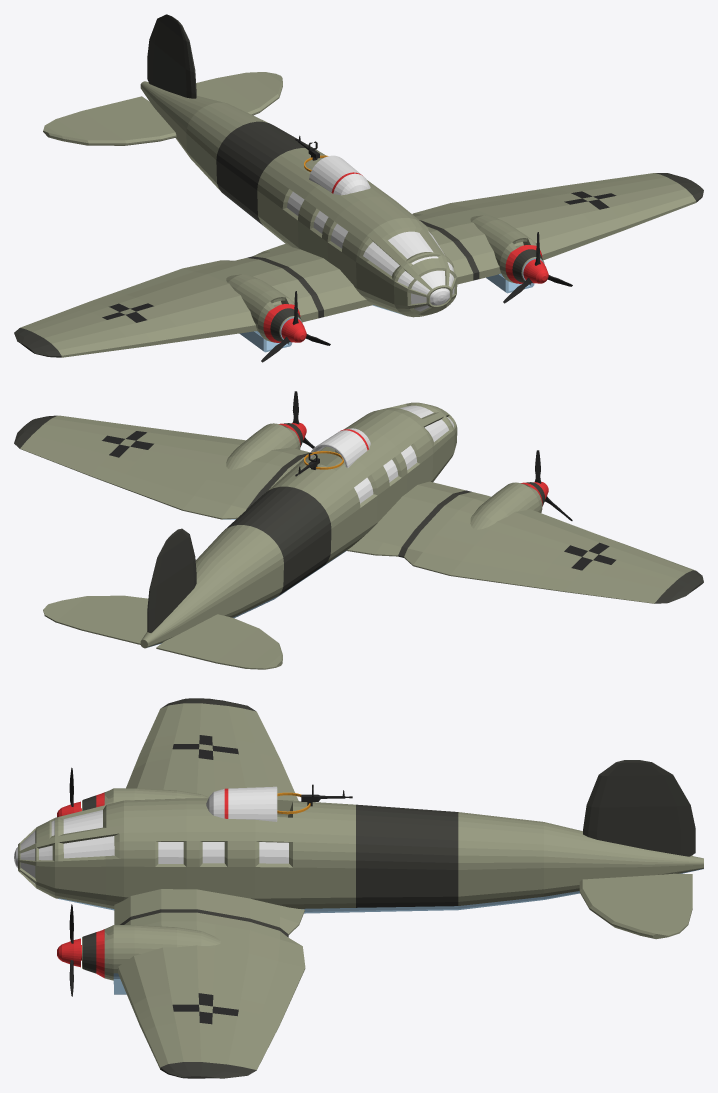
Rendered from Enemy 1-1.fbx.
The picture shows the model from 3 angles, top to bottom: view 1: azimuth 30°, elevation 25°; view 2: azimuth 150°, elevation 25°; view 3: azimuth 270°, elevation 25°; orthographic projection. The views are drawn at different scales.
Visible parts, largest first — view 1: Cube, Cylinder, Cube.001, Cylinder.001, Cube.002, Cylinder.003, Cylinder.002; view 2: Cube, Cylinder, Cube.001, Cylinder.001, Cube.002; view 3: Cylinder, Cube, Cube.002, Cube.001, Cylinder.001, Cylinder.002.
Part boxes in pixels (<box>): Cube: <box>14,173,703,357</box>; Cylinder: <box>140,81,457,317</box>; Cube.001: <box>43,72,282,145</box>; Cylinder.001: <box>226,215,544,352</box>; Cube.002: <box>147,14,196,98</box>; Cylinder.003: <box>261,291,330,362</box>; Cylinder.002: <box>503,232,572,303</box>; Cube: <box>14,415,703,603</box>; Cylinder: <box>140,402,457,648</box>; Cube.001: <box>43,595,282,669</box>; Cylinder.001: <box>226,423,544,529</box>; Cube.002: <box>147,528,196,632</box>; Cylinder: <box>14,786,703,913</box>; Cube: <box>114,698,305,1078</box>; Cube.002: <box>583,760,695,856</box>; Cube.001: <box>579,855,692,939</box>; Cylinder.001: <box>82,788,220,994</box>; Cylinder.002: <box>57,904,81,996</box>.
Bounding box in the file's own units: 2131 × 418 × 1643.
